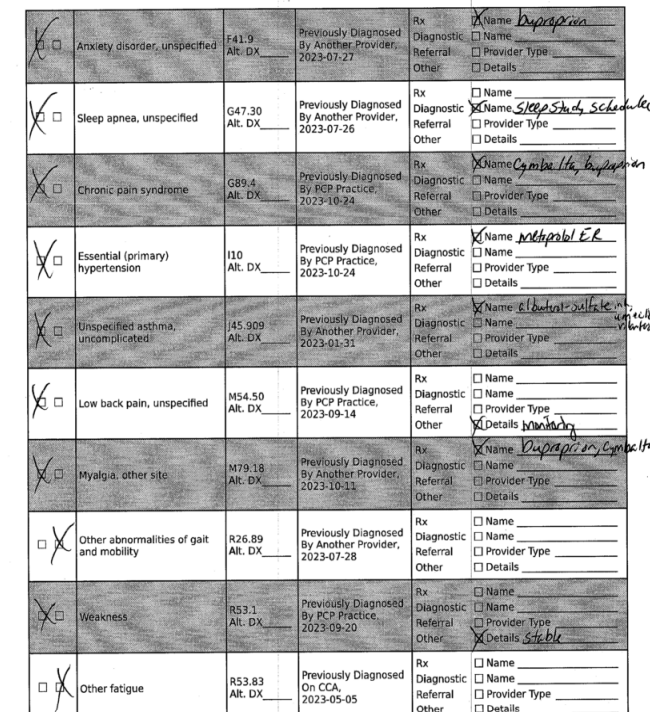checked: (48, 523, 75, 572), (29, 87, 53, 142), (29, 19, 52, 67), (31, 453, 54, 497), (31, 237, 53, 281), (32, 597, 56, 637), (30, 164, 53, 205), (54, 664, 73, 712), (30, 380, 52, 421), (31, 309, 52, 349), (467, 626, 488, 648), (467, 224, 485, 246), (468, 97, 484, 119), (469, 9, 485, 30), (469, 295, 485, 316), (471, 153, 487, 171), (470, 415, 485, 434), (469, 442, 485, 456)
